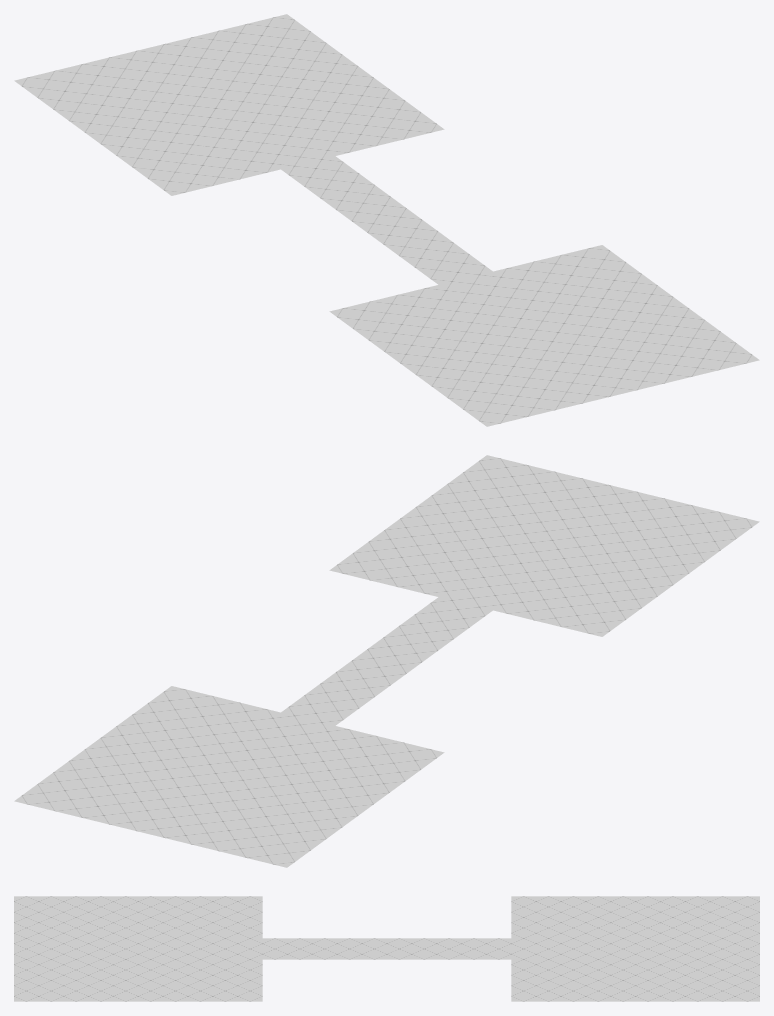
Rendered from Floor.FBX.
3 renders of one model, top to bottom at view 1: azimuth 30°, elevation 25°; view 2: azimuth 150°, elevation 25°; view 3: azimuth 270°, elevation 25°, orthographic. The views are drawn at different scales.
Parts seen in each view (by area): view 1: Floor; view 2: Floor; view 3: Floor.
Part boxes in pixels (x1,y1,x2,y2): Floor: (14, 14, 759, 426); Floor: (14, 455, 759, 867); Floor: (14, 896, 759, 1001).
Size of the model in its own units: 1500 by 0.000656 by 4500.
